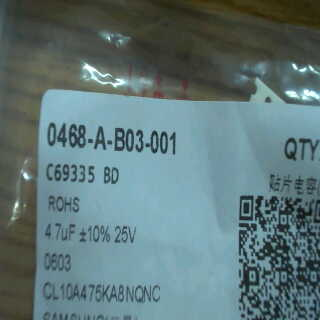4.7uF: (42, 218, 79, 244)
